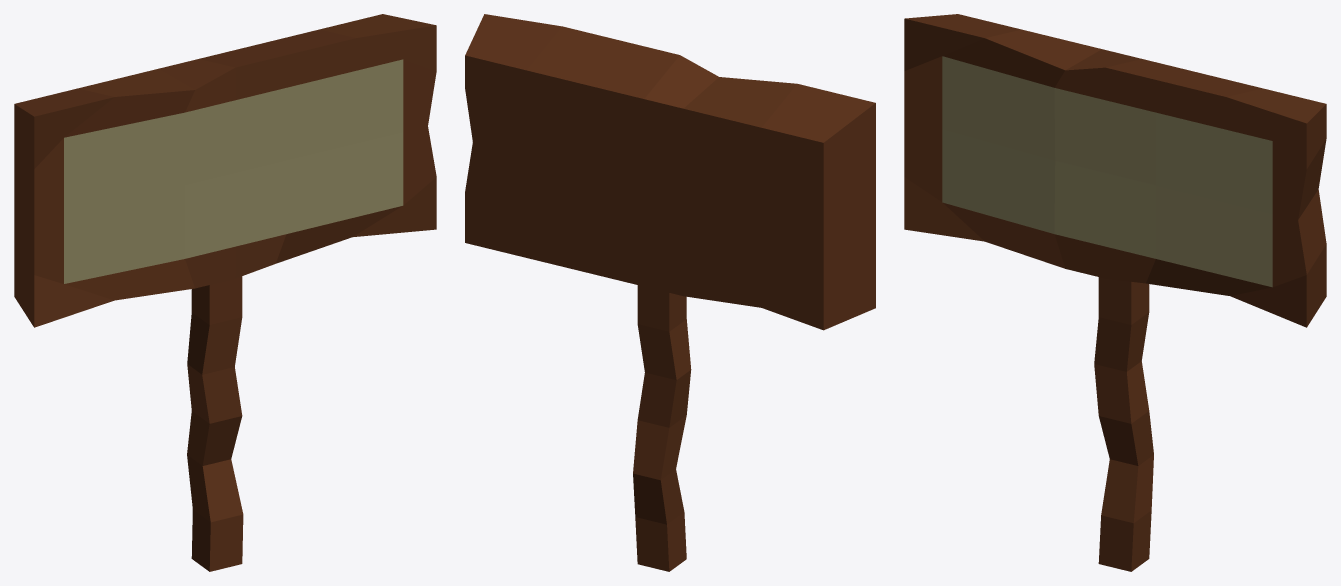
Rendered from WorldSign_v01.fbx.
3 views of the same model, side by side, from view 1: azimuth 30°, elevation 25°; view 2: azimuth 150°, elevation 25°; view 3: azimuth 330°, elevation 25° (orthographic). The views are drawn at different scales.
Parts seen in each view (by area): view 1: Sign; view 2: Sign; view 3: Sign.
Boxes of the visible parts, x1,y1,x2,y2 form: Sign: (14, 14, 436, 571); Sign: (465, 14, 875, 571); Sign: (904, 14, 1326, 571).
Size of the model in its own units: 63.8 by 399 by 481.
